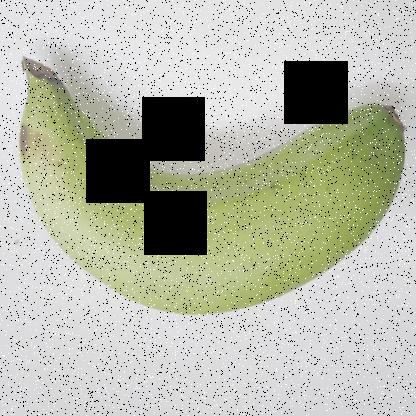freshunripe: (1, 34, 415, 328)
